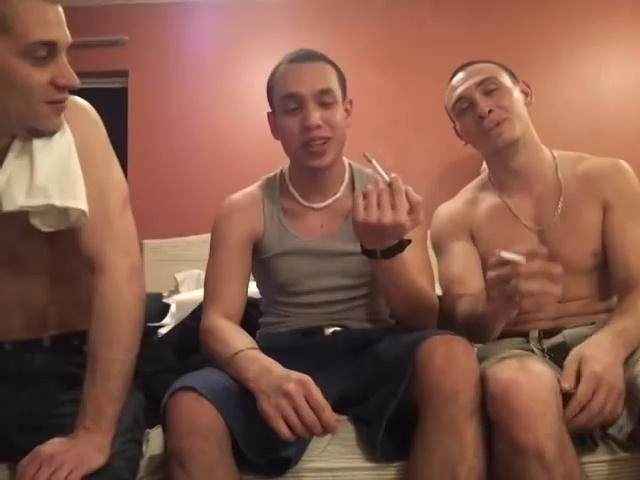cigarette: (362, 151, 393, 182), (492, 247, 531, 265)
